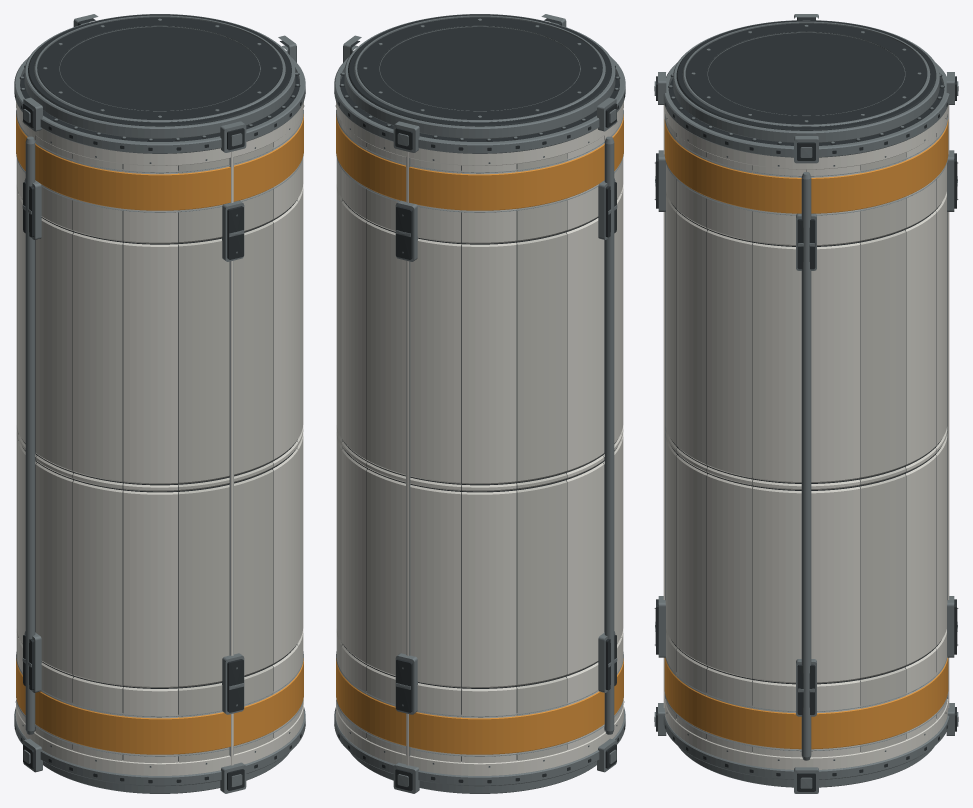
File: canister_1.glb
3 renders of one model, left to right at view 1: azimuth 30°, elevation 25°; view 2: azimuth 150°, elevation 25°; view 3: azimuth 270°, elevation 25°, orthographic.
Parts seen in each view (by area): view 1: Segmented ivory shell, Amber identification bands, Recessed top lid, Machined end collars, Side clamps and end latches, Twin service rails, Pressure vessel, Recessed bolts and fasteners; view 2: Segmented ivory shell, Amber identification bands, Recessed top lid, Machined end collars, Side clamps and end latches, Twin service rails, Pressure vessel, Recessed bolts and fasteners; view 3: Segmented ivory shell, Amber identification bands, Recessed top lid, Machined end collars, Side clamps and end latches, Twin service rails, Pressure vessel, Recessed bolts and fasteners.
Boxes of the visible parts, bbox=[...] form: Segmented ivory shell: bbox=[16, 111, 303, 765]; Amber identification bands: bbox=[16, 110, 303, 756]; Recessed top lid: bbox=[33, 15, 286, 122]; Machined end collars: bbox=[14, 14, 305, 793]; Side clamps and end latches: bbox=[22, 14, 296, 793]; Twin service rails: bbox=[25, 136, 35, 734]; Pressure vessel: bbox=[18, 73, 299, 761]; Recessed bolts and fasteners: bbox=[15, 18, 305, 783]; Segmented ivory shell: bbox=[336, 111, 623, 765]; Amber identification bands: bbox=[336, 110, 623, 756]; Recessed top lid: bbox=[353, 15, 606, 122]; Machined end collars: bbox=[334, 14, 625, 793]; Side clamps and end latches: bbox=[343, 14, 617, 793]; Twin service rails: bbox=[604, 136, 614, 734]; Pressure vessel: bbox=[340, 73, 621, 761]; Recessed bolts and fasteners: bbox=[334, 18, 624, 783]; Segmented ivory shell: bbox=[663, 105, 949, 757]; Amber identification bands: bbox=[664, 117, 948, 751]; Recessed top lid: bbox=[682, 21, 930, 127]; Machined end collars: bbox=[663, 20, 949, 787]; Side clamps and end latches: bbox=[654, 14, 958, 793]; Twin service rails: bbox=[801, 172, 811, 760]; Pressure vessel: bbox=[668, 78, 944, 751]; Recessed bolts and fasteners: bbox=[665, 25, 947, 776].
Size of the model in its own units: 1.97 by 4.74 by 1.97.
